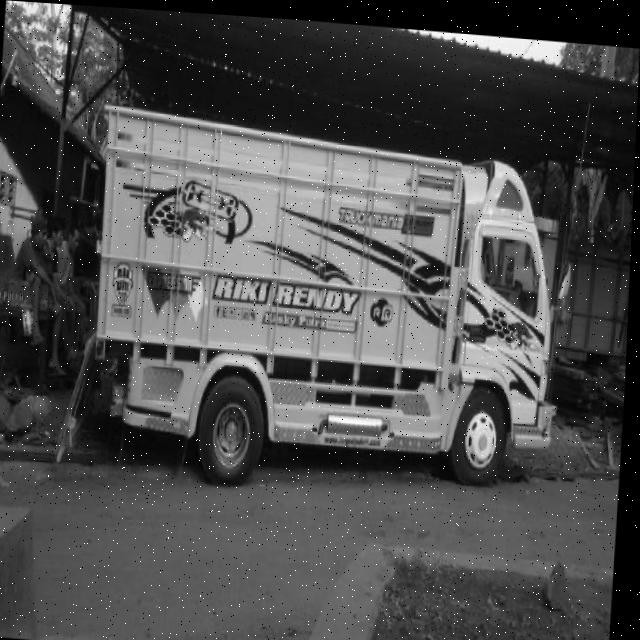truck: (433, 126, 588, 495)
